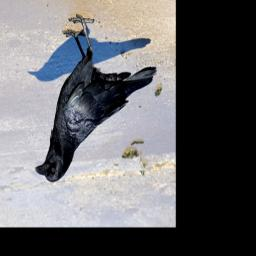Crow: (35, 14, 157, 183)
